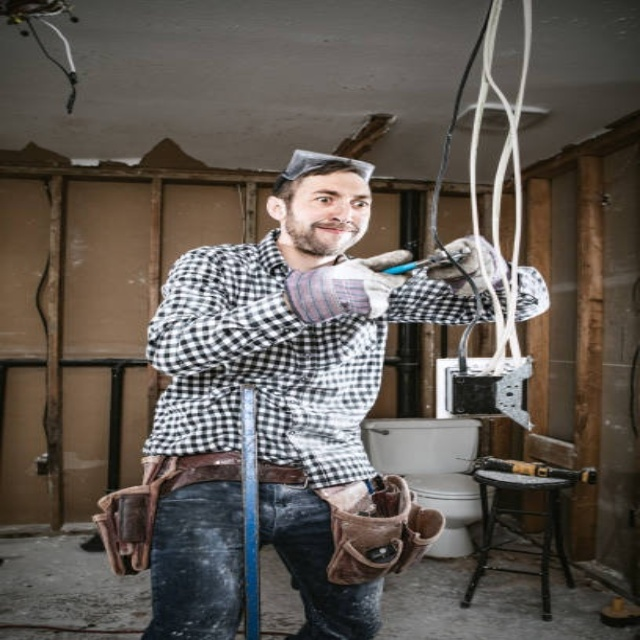Guantes: (290, 250, 411, 318), (425, 229, 511, 296)
Sin_gafas: (293, 193, 378, 210)
Sin_mascara: (312, 218, 361, 246)
